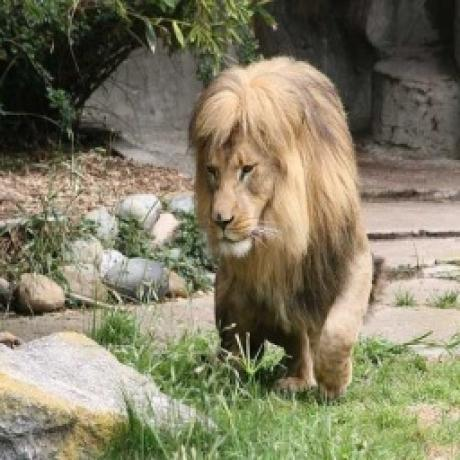Lion: (185, 49, 384, 406)
